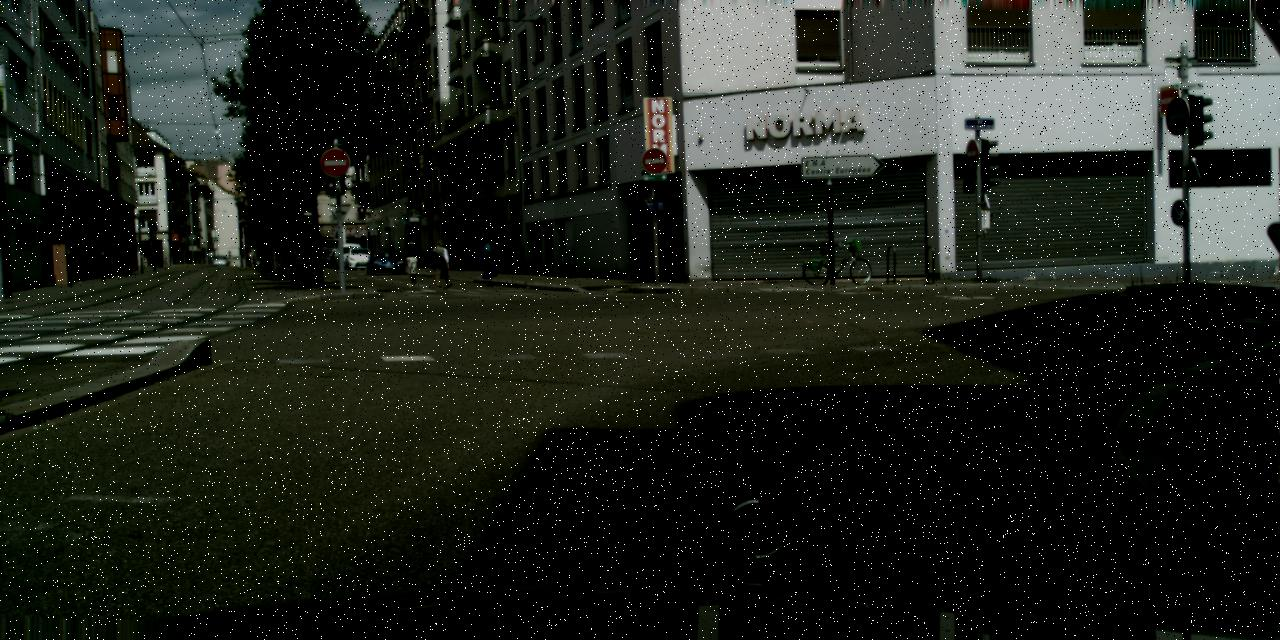ped: (402, 236, 422, 288), (480, 236, 500, 286), (432, 240, 451, 288)
